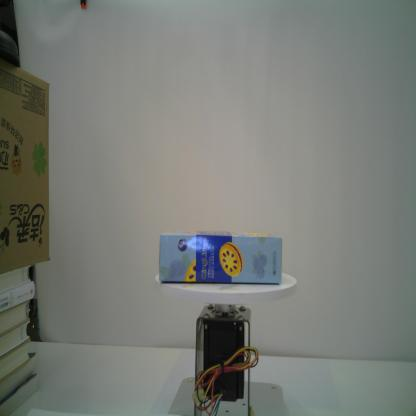Dessert: (158, 230, 282, 284)
